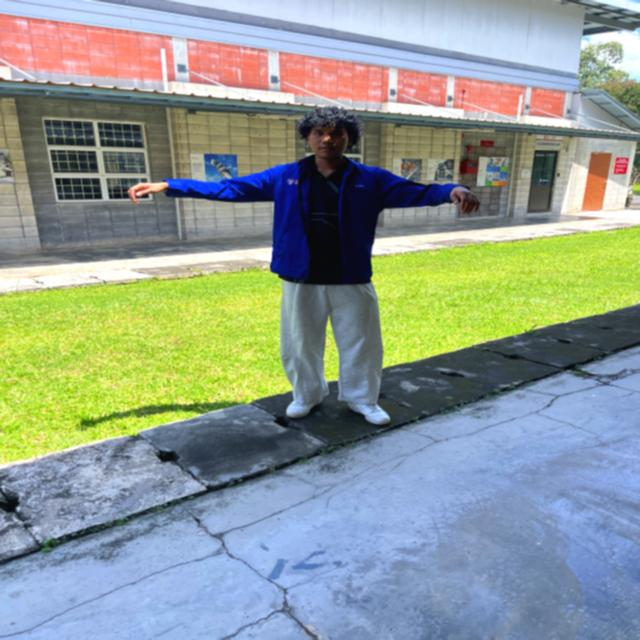person_with_labcoat: (130, 107, 479, 425)
